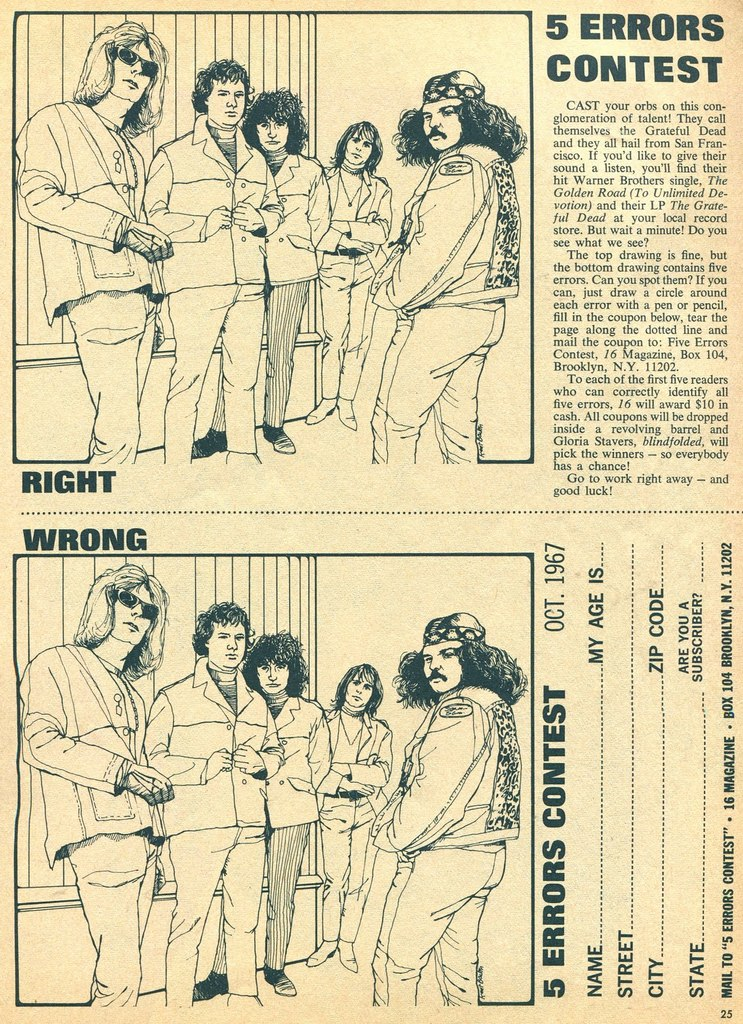Human-face: (109, 43, 153, 104), (422, 99, 464, 159), (420, 643, 464, 696), (116, 586, 148, 652), (209, 78, 246, 129), (209, 622, 246, 669), (342, 676, 373, 717), (256, 662, 291, 696), (344, 131, 372, 171), (258, 122, 291, 154)
